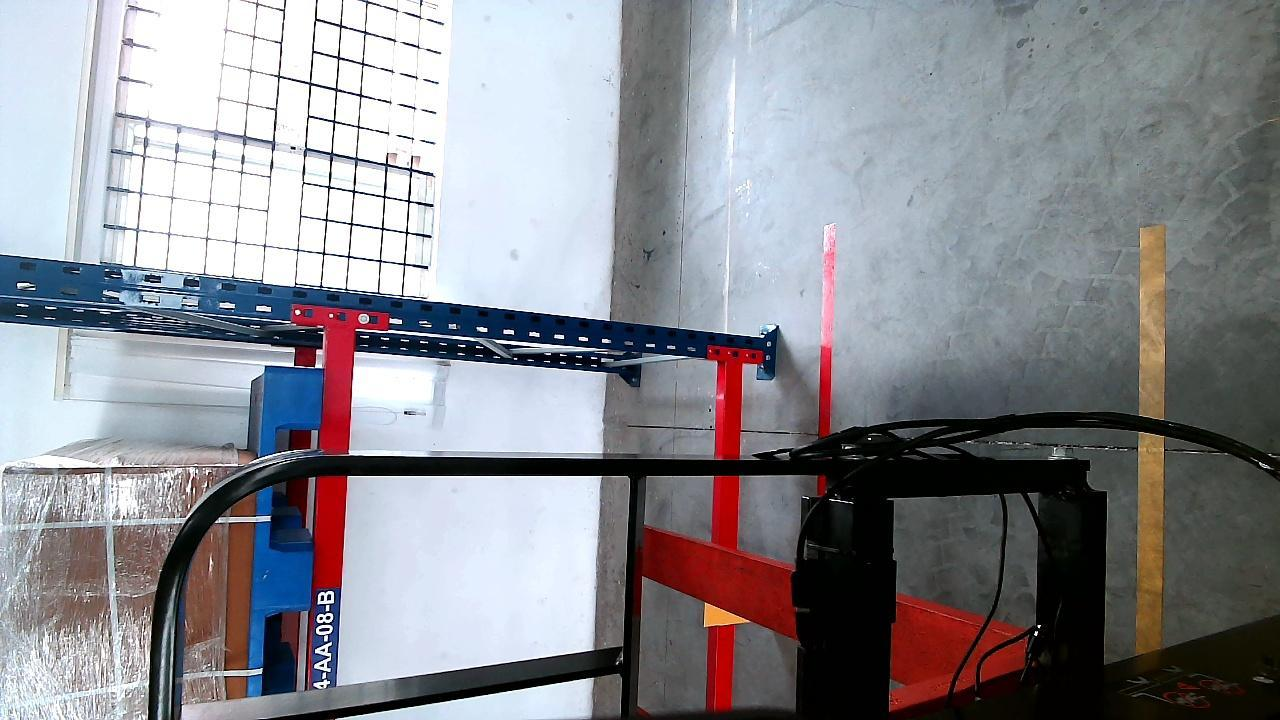red_line: (818, 223, 837, 440)
yellow_line: (1137, 212, 1164, 665)
